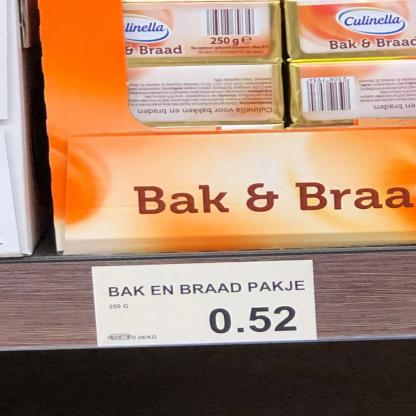prtg: (93, 260, 318, 348)
